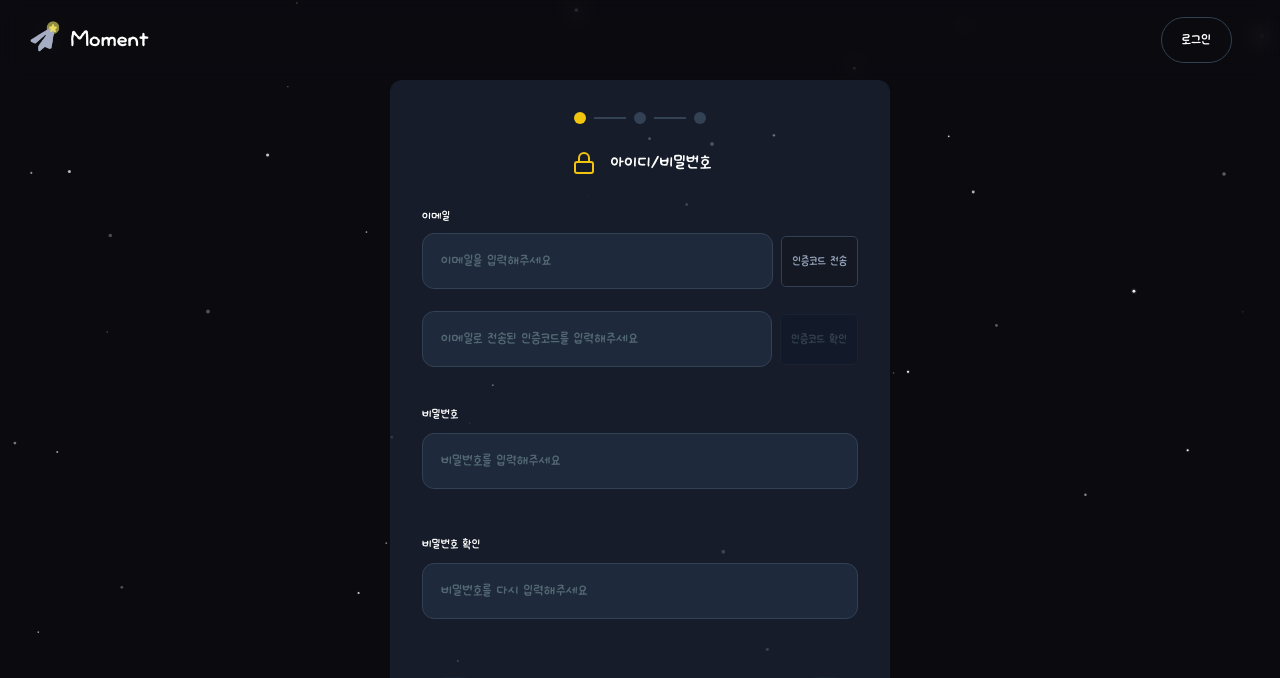
Test: 회원가입 › 시나리오 2: 유효성 검사 › 이메일 형식이 틀리면 인증코드 전송 버튼이 비활성화된다
In the field with id "email": (598, 261) [422,233,773,289], type "not-an-email"
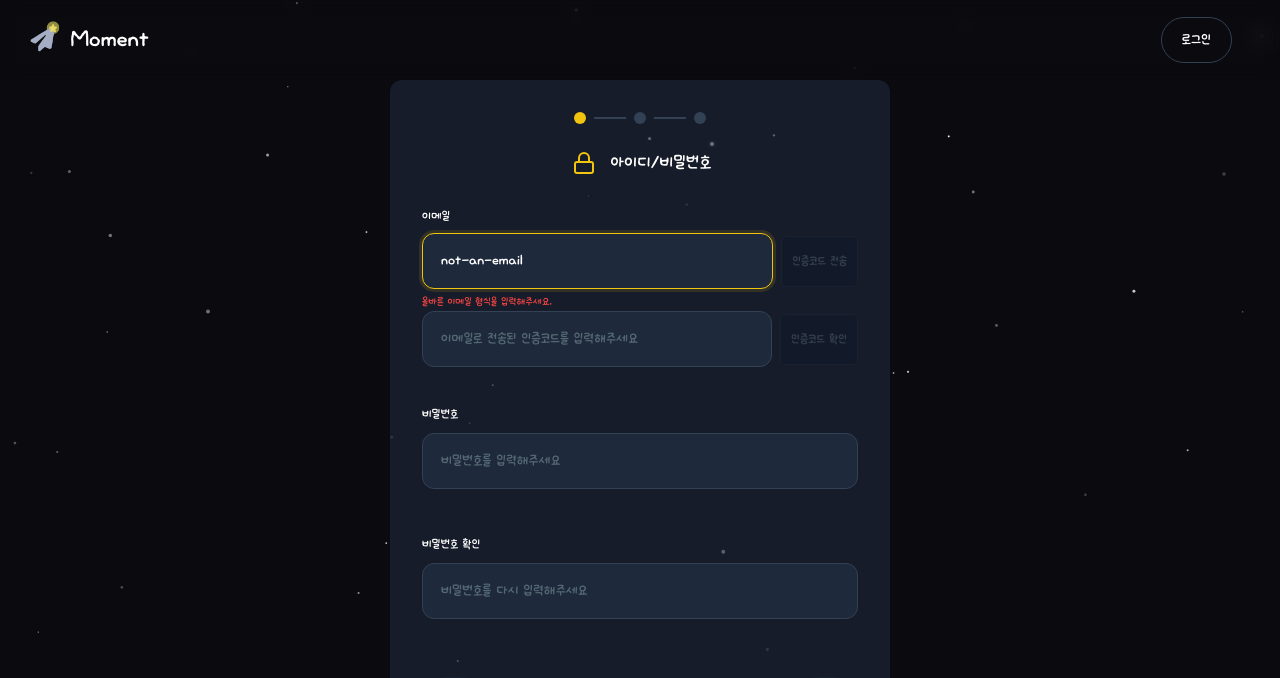
expect the button with aria-label "이메일 인증코드 전송" is disabled: met, box [781,236,858,287]
